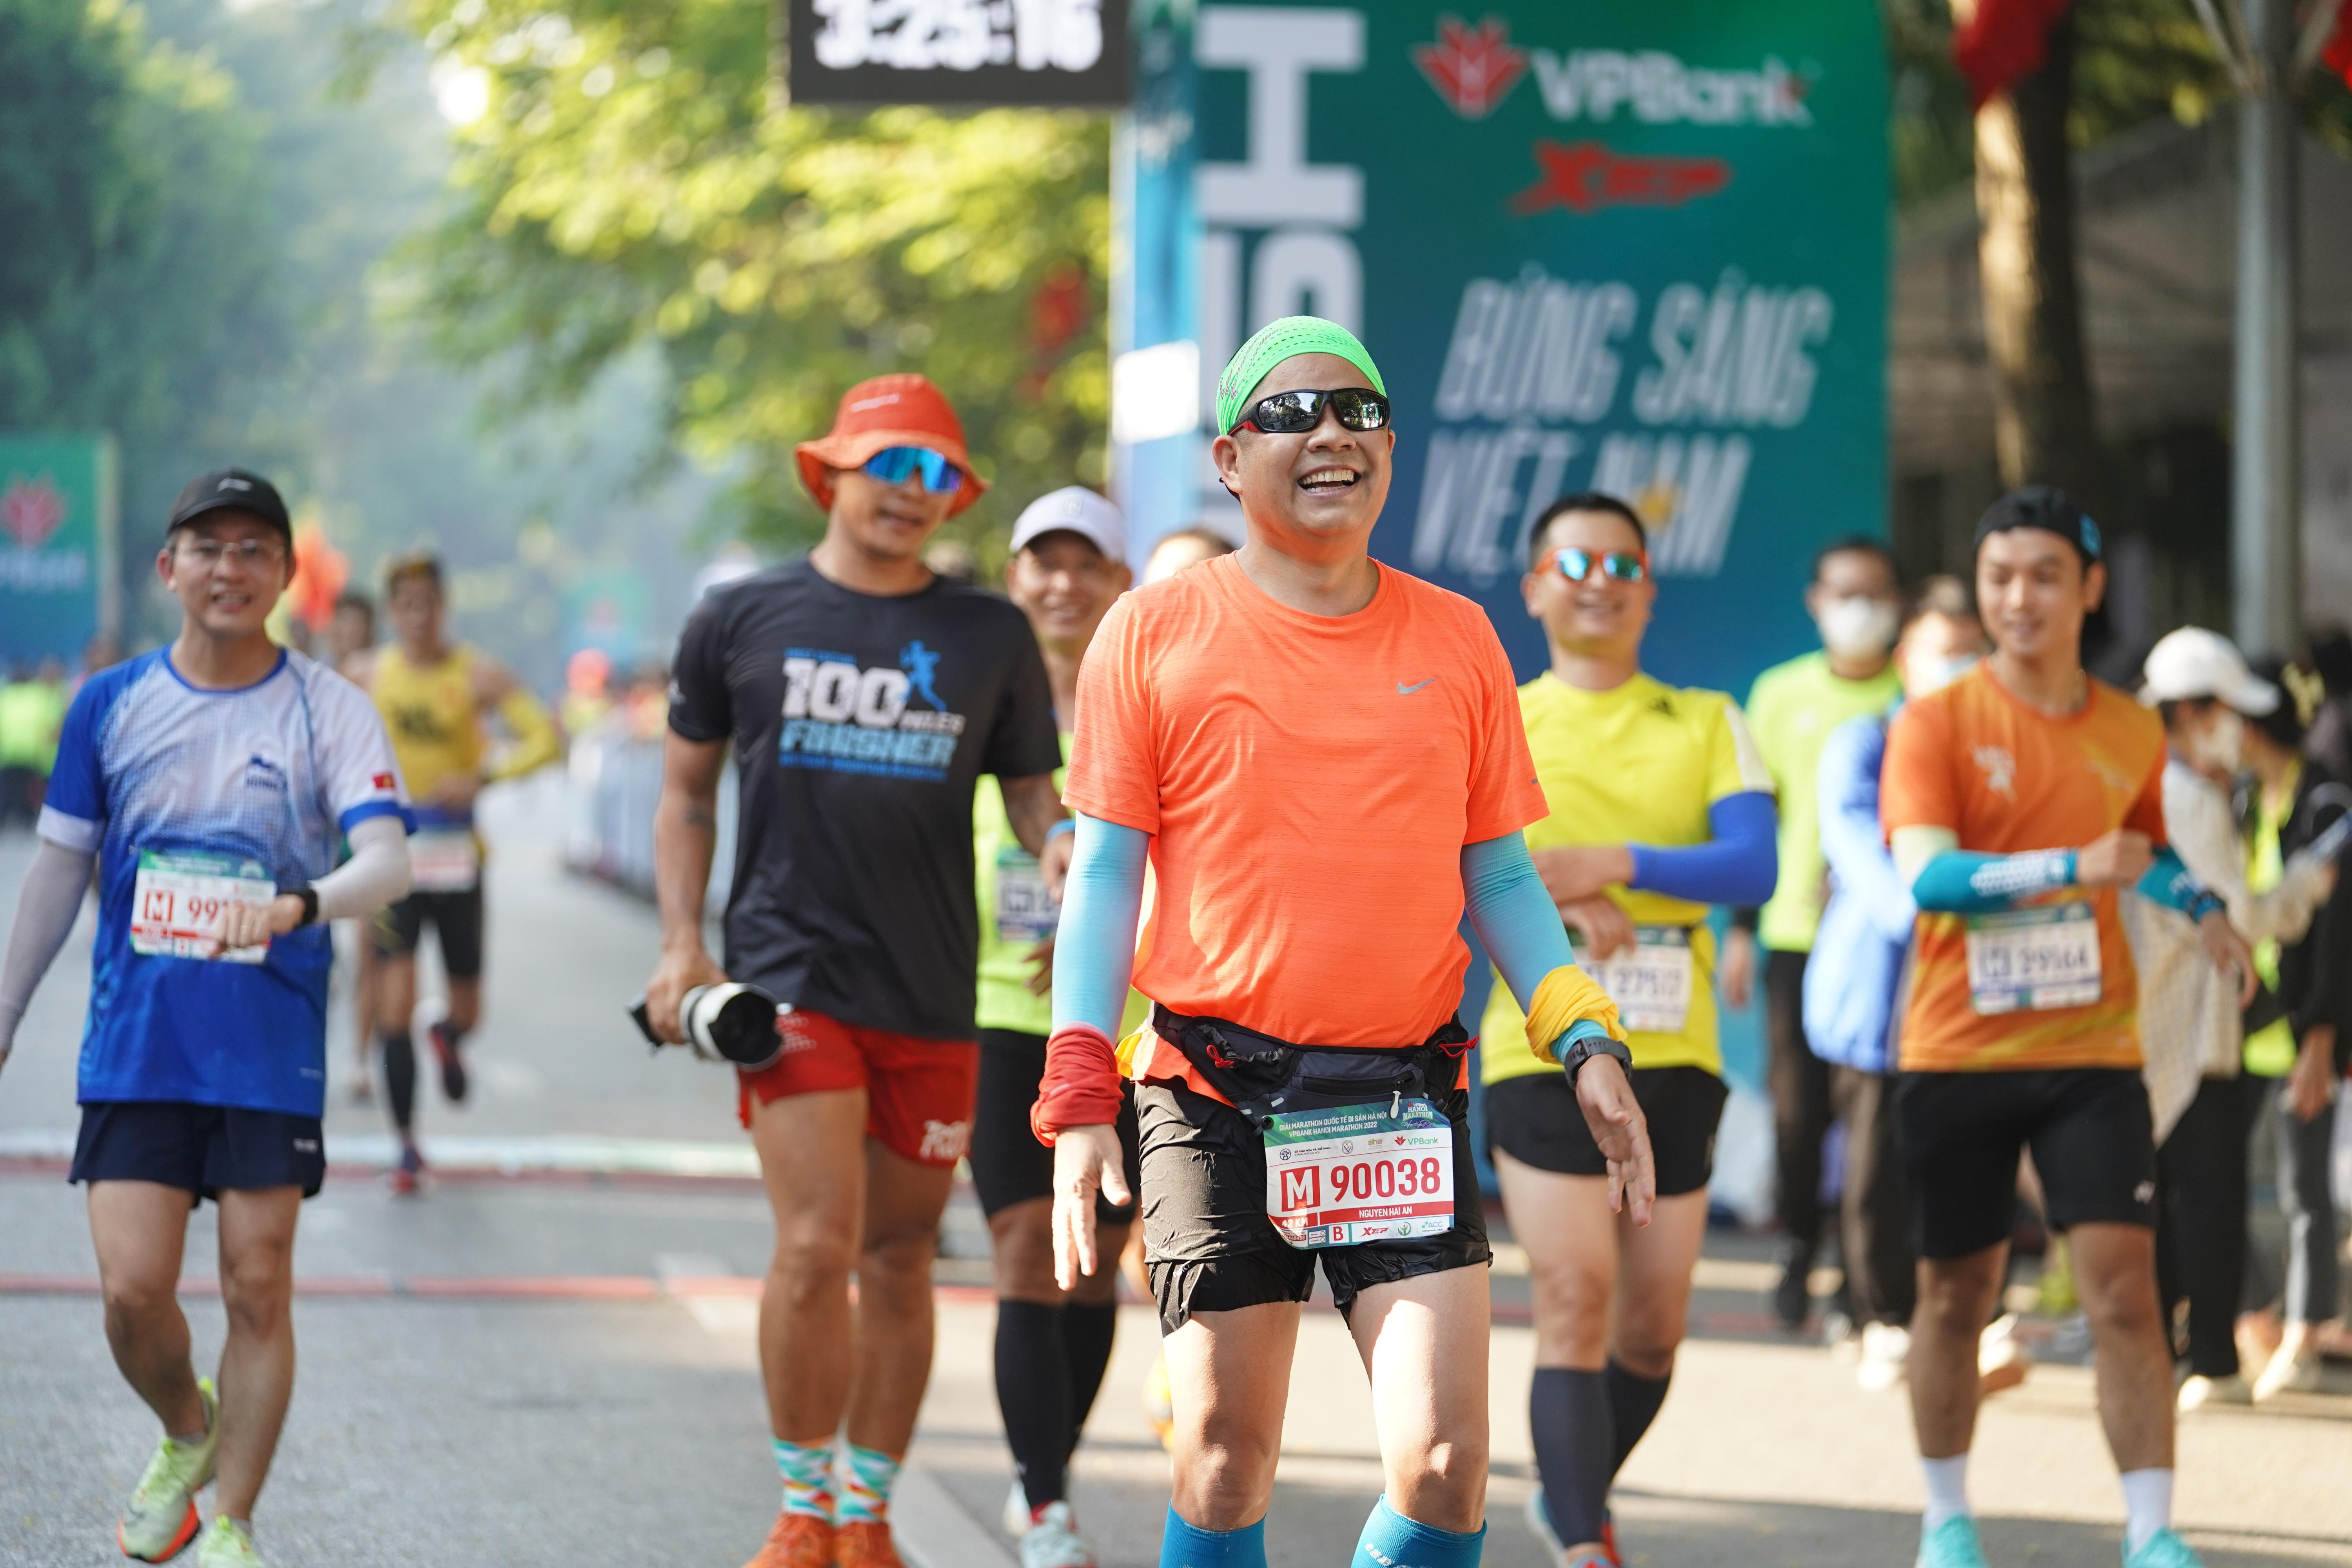bib: (1265, 1101, 1456, 1248), (130, 843, 271, 964), (1967, 912, 2105, 1012), (1591, 927, 1694, 1043)
